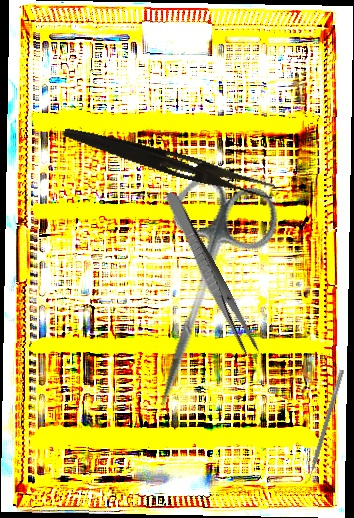Dressing Forceps: (159, 189, 262, 360), (60, 124, 278, 201)
Iris Scissors: (115, 166, 286, 424)
Spatula Surgical: (301, 367, 345, 487)
